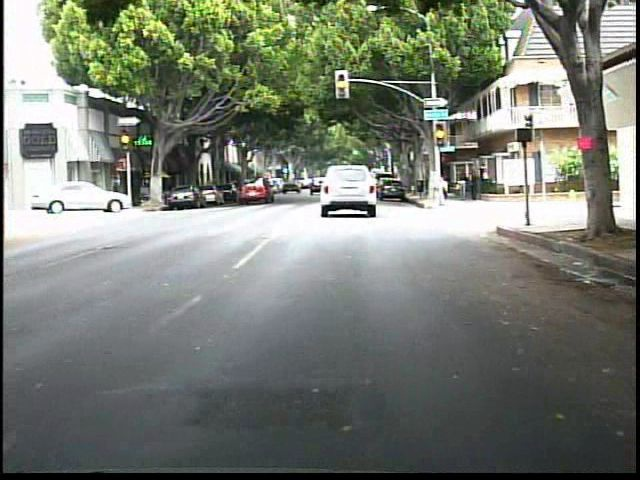person: (431, 171, 452, 210), (456, 166, 471, 202), (467, 167, 480, 204), (478, 161, 489, 196)
